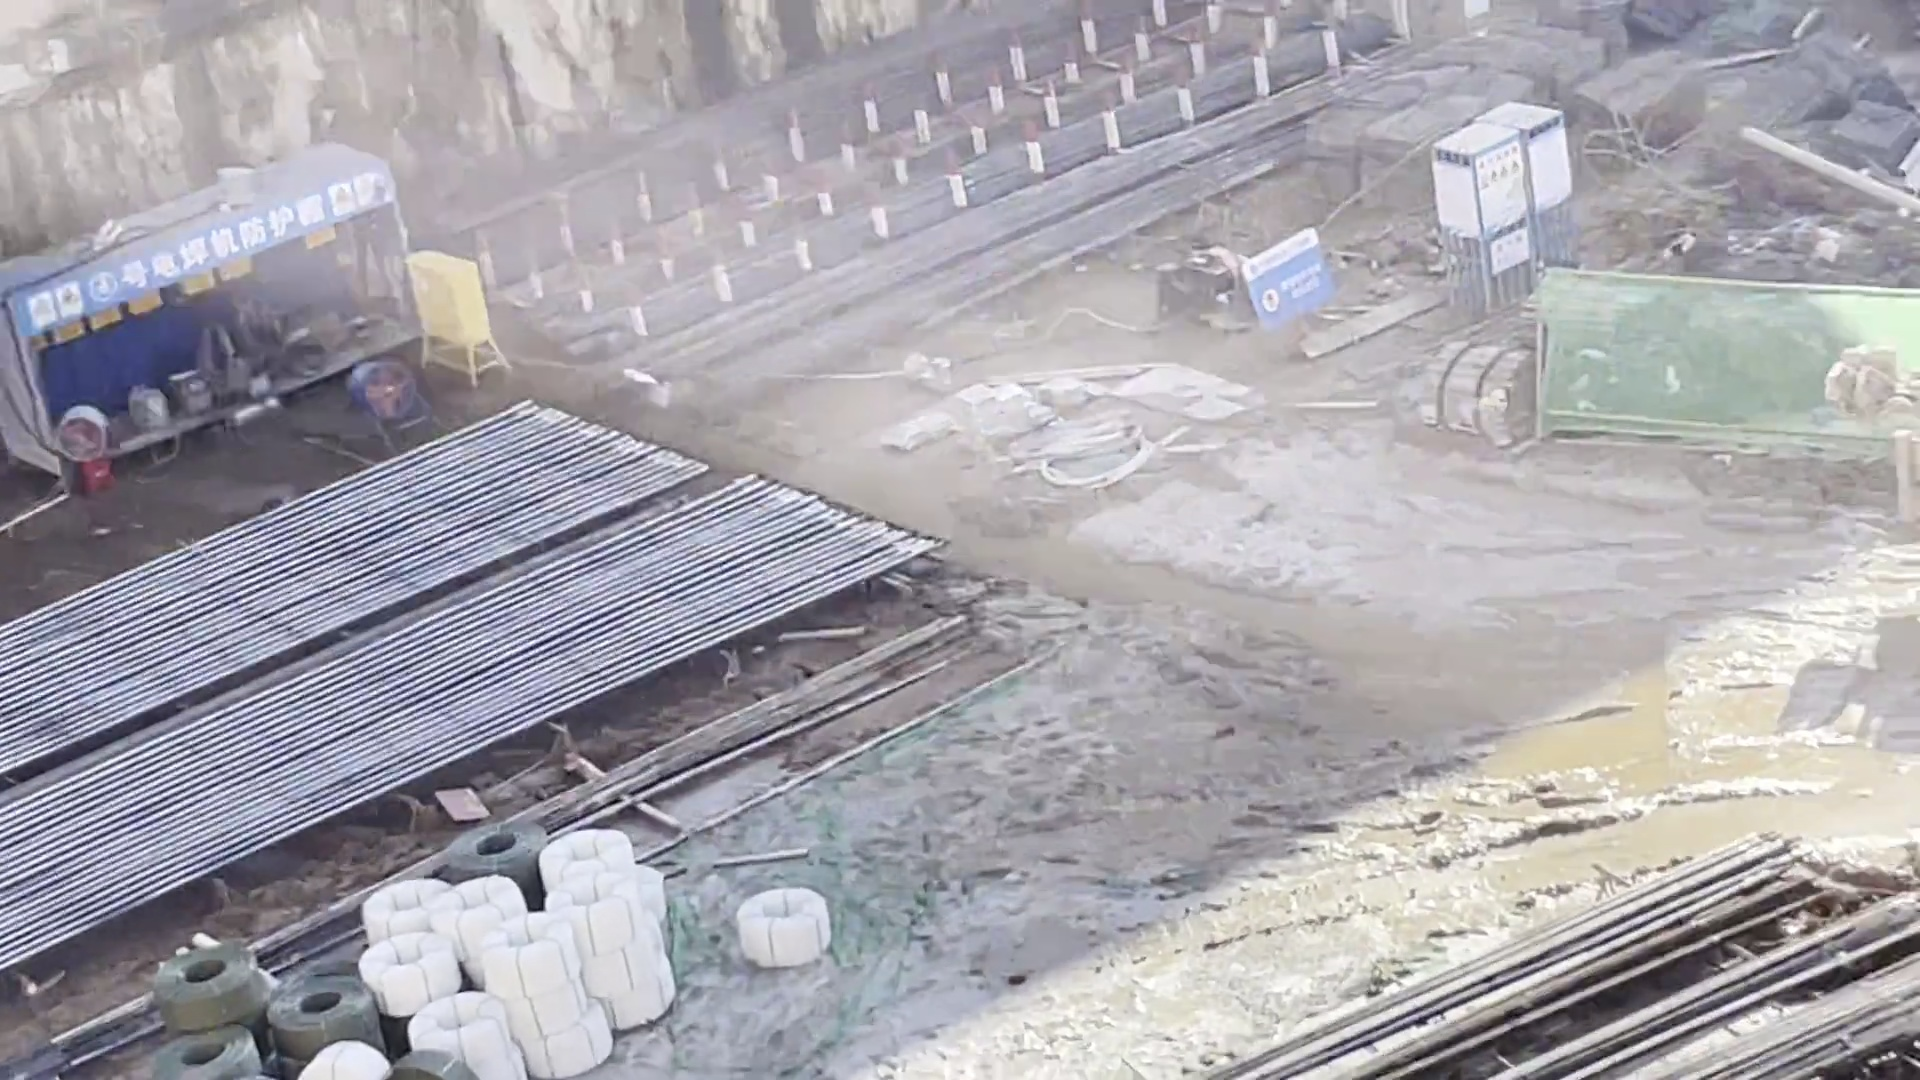ebox: (404, 253, 510, 389)
fence: (88, 185, 326, 305), (1229, 228, 1332, 335), (1474, 149, 1530, 237), (21, 289, 84, 338), (334, 174, 386, 220), (1491, 233, 1527, 272)
rebar: (1, 471, 952, 982), (378, 5, 1400, 402), (3, 400, 705, 779), (1178, 828, 1920, 1077)
